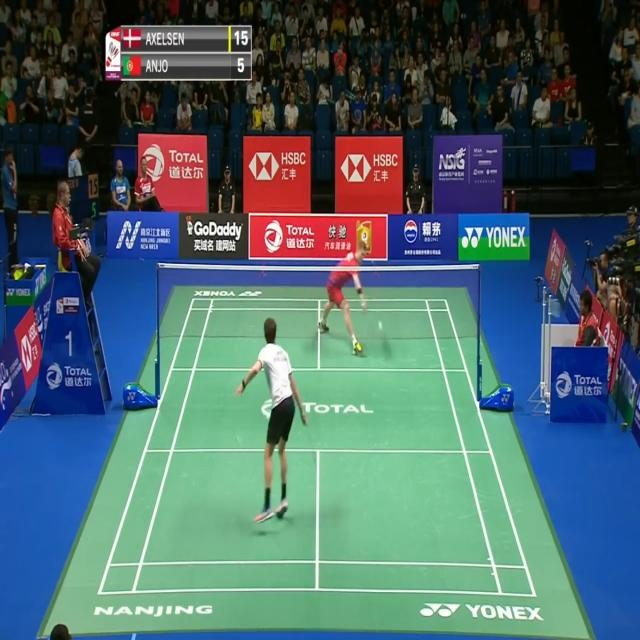Player1: (229, 316, 311, 530)
Player2: (313, 229, 387, 363)
